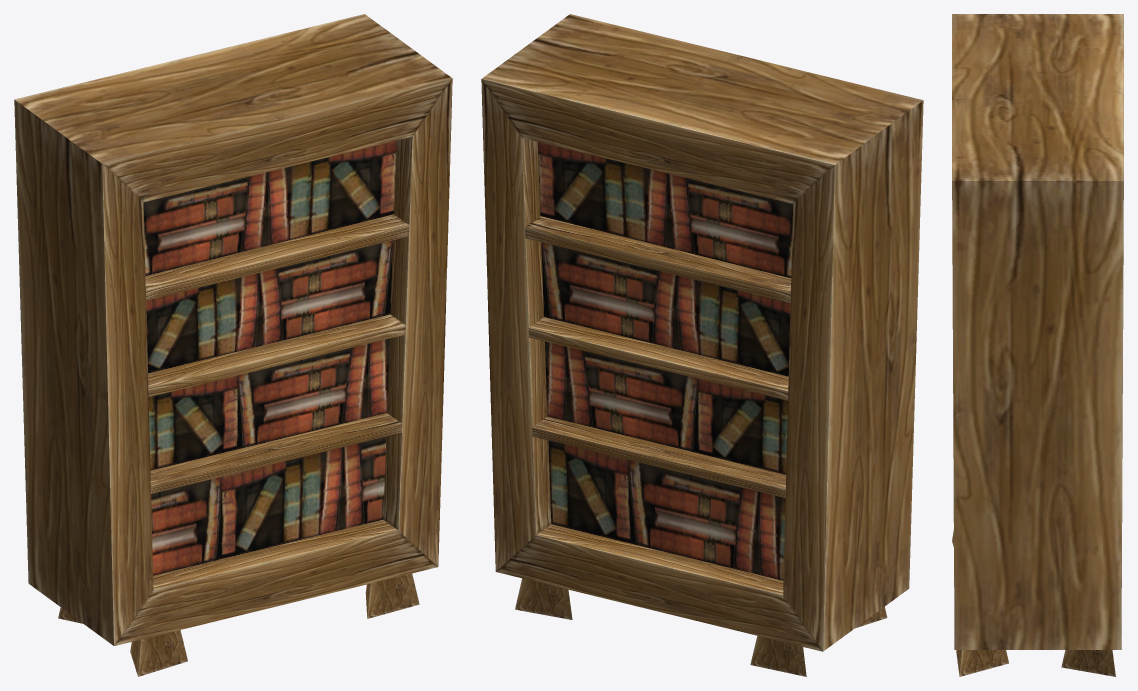
The model's file is abbeyshelf01.obj.
3 renders of one model, left to right at view 1: azimuth 30°, elevation 25°; view 2: azimuth 150°, elevation 25°; view 3: azimuth 270°, elevation 25°, orthographic. The views are drawn at different scales.
Parts seen in each view (by area): view 1: abbeyshelf01.m2; view 2: abbeyshelf01.m2; view 3: abbeyshelf01.m2.
Part boxes in pixels (x1,y1,x2,y2): abbeyshelf01.m2: [14, 14, 452, 676]; abbeyshelf01.m2: [481, 14, 923, 676]; abbeyshelf01.m2: [952, 14, 1123, 676].
Size of the model in its own units: 3.56 by 5.06 by 1.55.
1 material, 1 textured.
